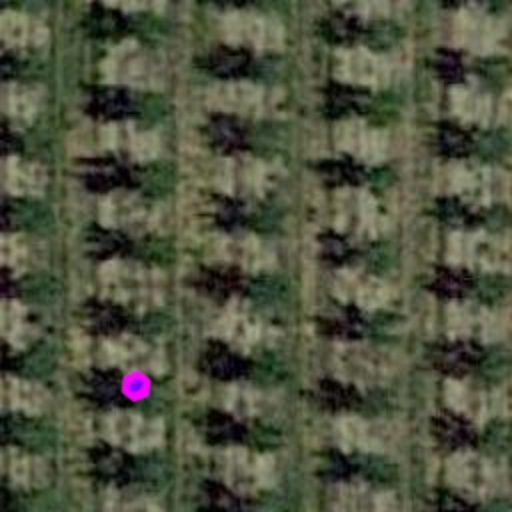hexagon: (112, 362, 160, 410)
